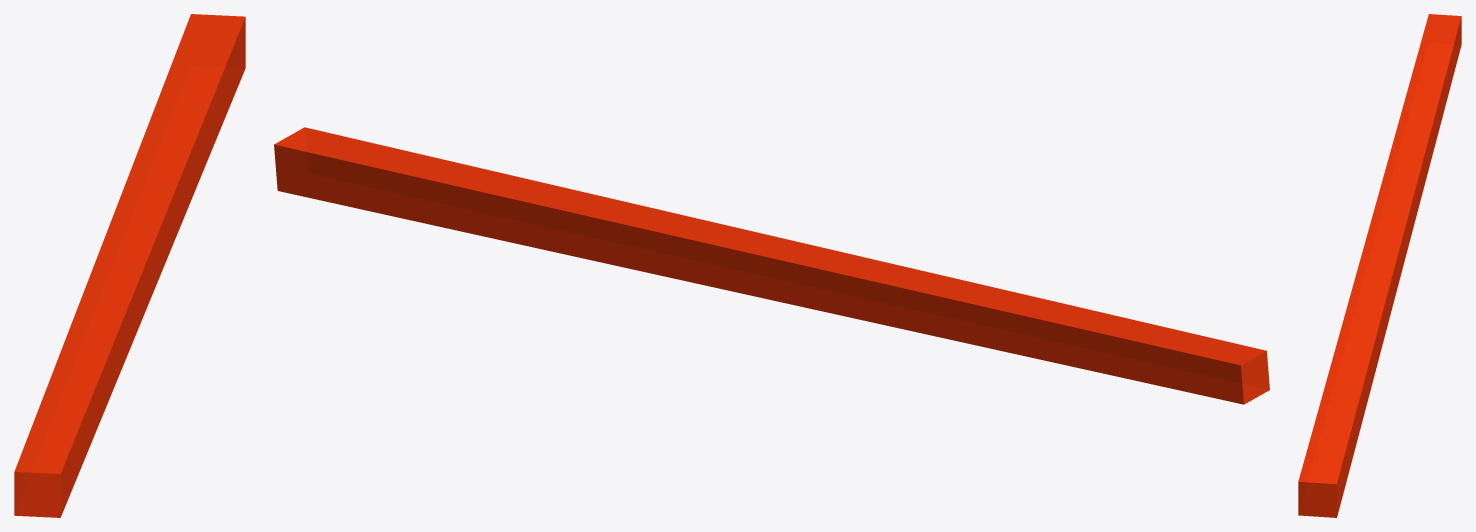
File: Event_420107950_EErechit_83.fbx
3 views of the same model, side by side, from view 1: azimuth 90°, elevation 25°; view 2: azimuth 150°, elevation 25°; view 3: azimuth 270°, elevation 25° (orthographic). The views are drawn at different scales.
Parts seen in each view (by area): view 1: Model; view 2: Model; view 3: Model.
Part boxes in pixels (x1=…): Model: x1=14, y1=14, x2=245, y2=517; Model: x1=274, y1=127, x2=1269, y2=404; Model: x1=1298, y1=14, x2=1461, y2=517.
Bounding box in the file's own units: 2.07 × 0.2619 × 0.3593.
